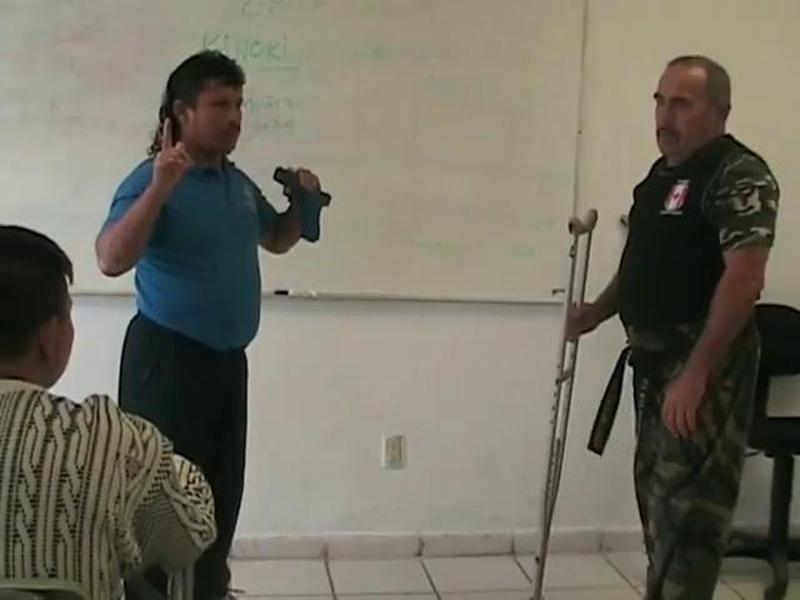Pistola: (272, 163, 341, 246)
